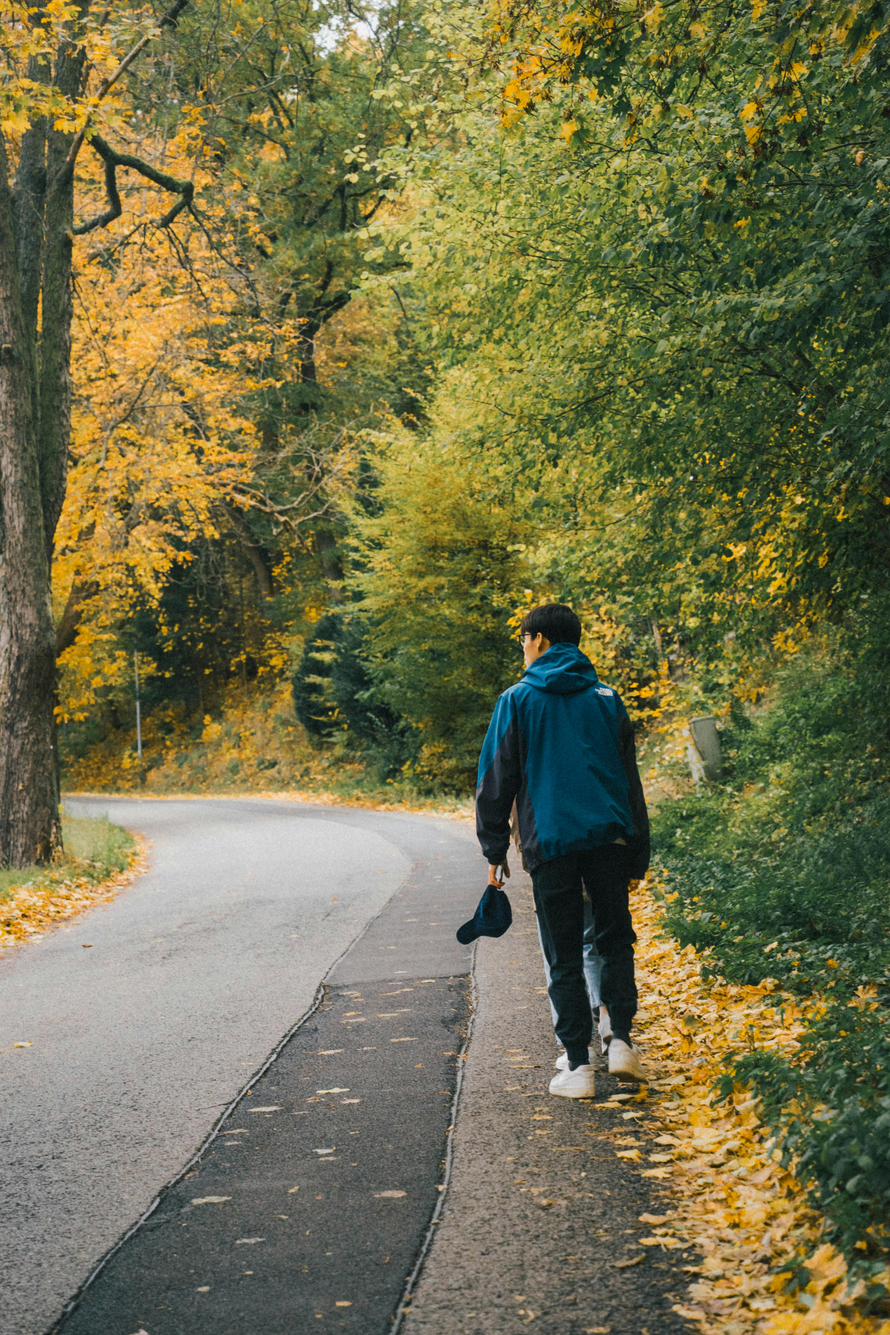Person: (446, 599, 672, 1105)
